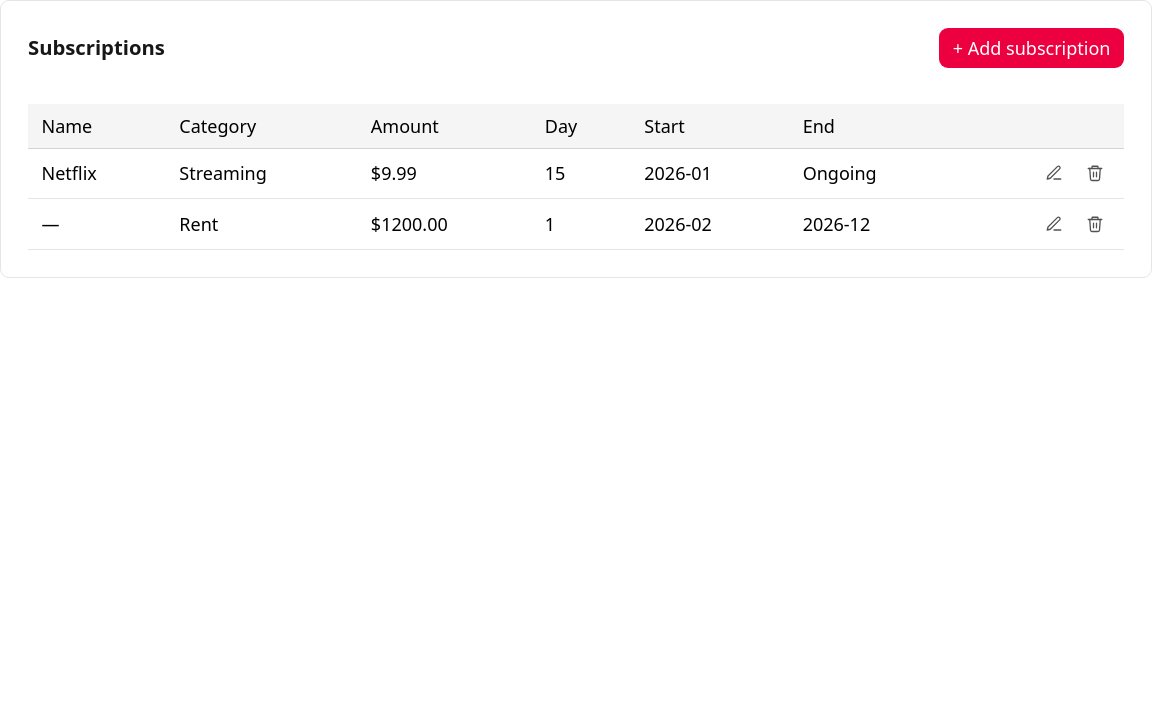
Subscriptions › deletes a subscription via DELETE and removes it from the table
This screenshot has width=1152, height=720.
Check: the text "Netflix" is shown, box [28, 148, 166, 199]
Click the button named "Delete subscription" in the row of "Netflix" at (1095, 173), box [1079, 158, 1110, 189]
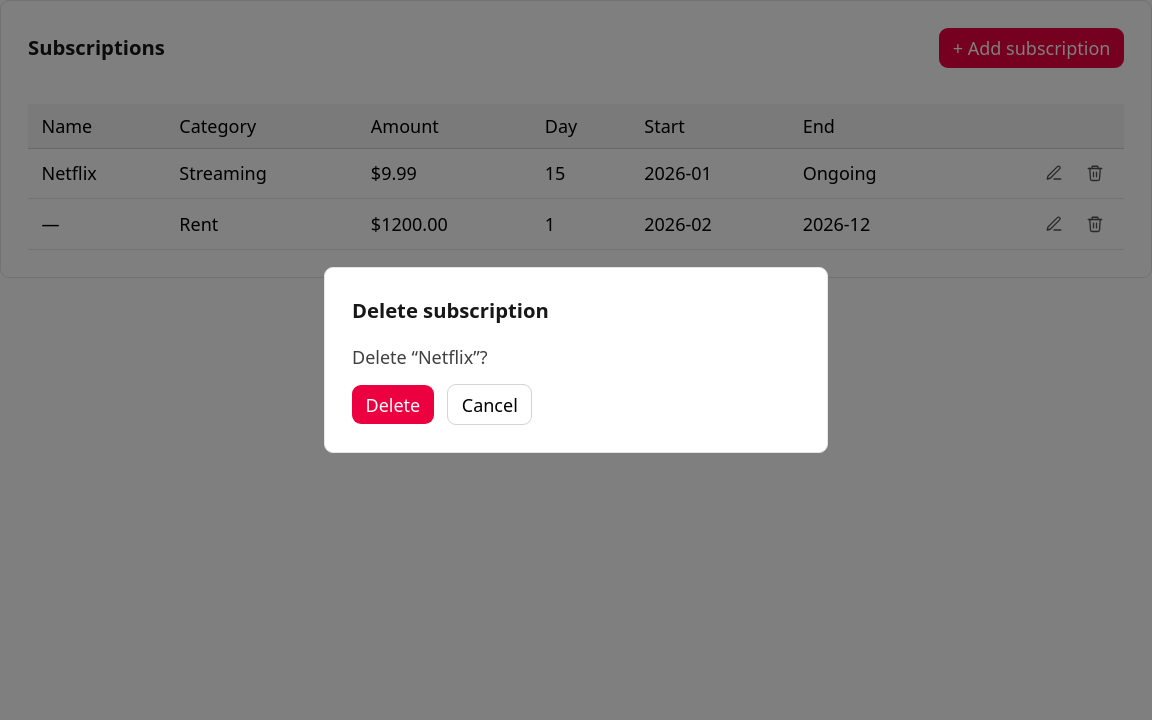
Check: the text "Delete “Netflix”?" is shown, box [352, 345, 488, 369]
Click the button "Delete" at (393, 405), box [352, 385, 434, 424]
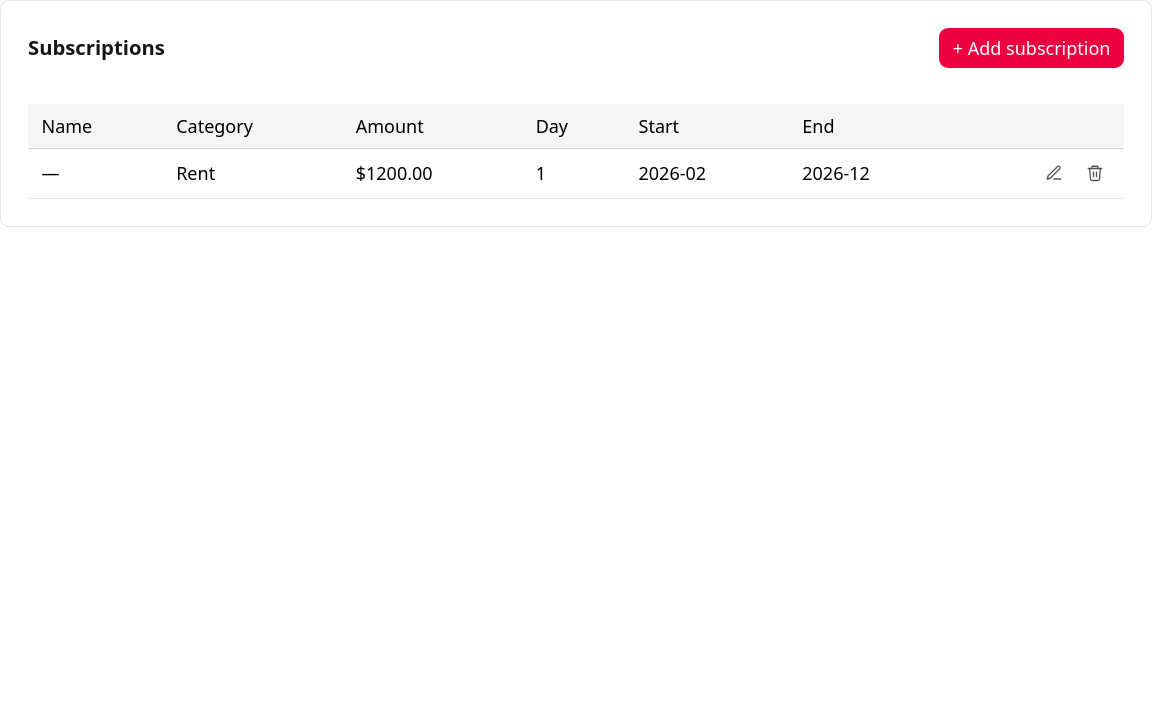
Check: the text "Netflix" is gone
